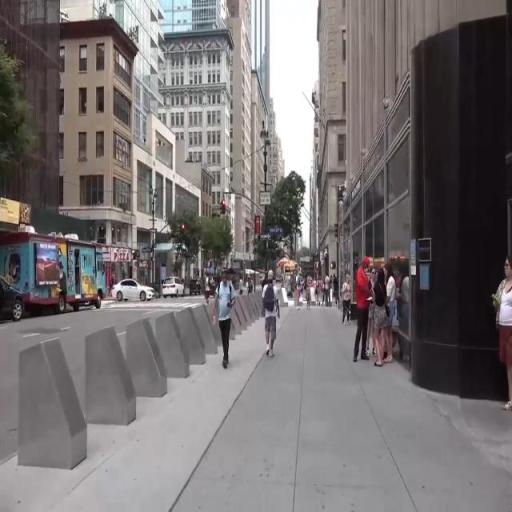person: (491, 256, 512, 425), (386, 262, 403, 359), (264, 274, 279, 359), (221, 275, 234, 372), (359, 261, 370, 372), (379, 272, 390, 381), (369, 265, 379, 351), (345, 274, 352, 327), (297, 271, 303, 314), (204, 270, 212, 302), (326, 272, 331, 308), (248, 276, 255, 297), (308, 284, 313, 309), (239, 276, 244, 301)
